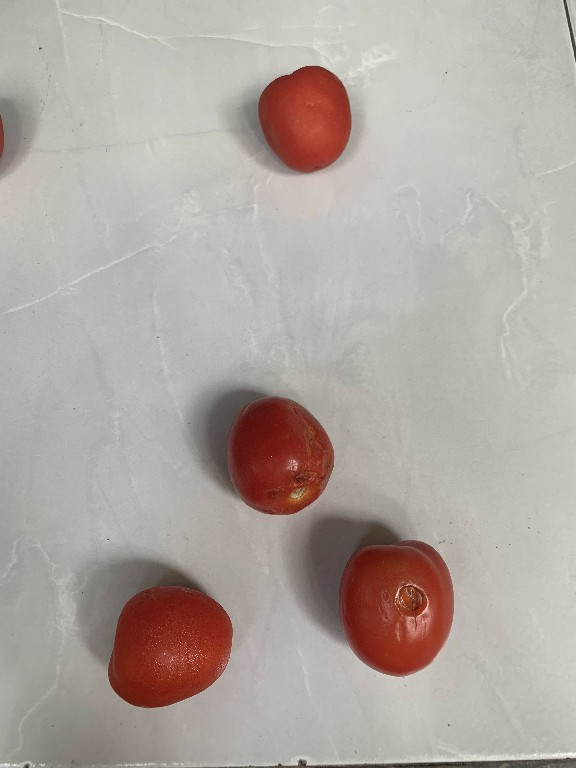NG: (334, 534, 454, 681), (226, 391, 337, 518)
OK: (108, 577, 235, 710), (253, 59, 351, 179)
